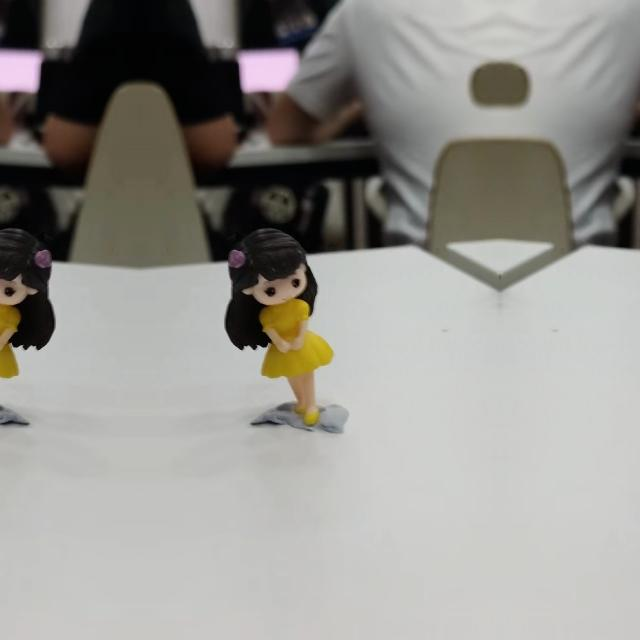woman head: (223, 228, 311, 304), (0, 227, 57, 304)
